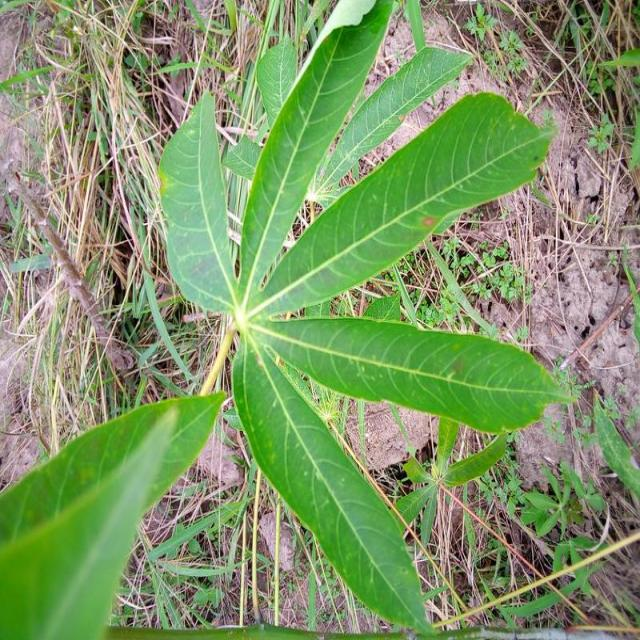cassava leaf: (155, 0, 577, 635), (247, 89, 558, 318), (230, 326, 435, 636), (0, 388, 226, 637), (236, 0, 394, 306), (248, 314, 578, 435)
